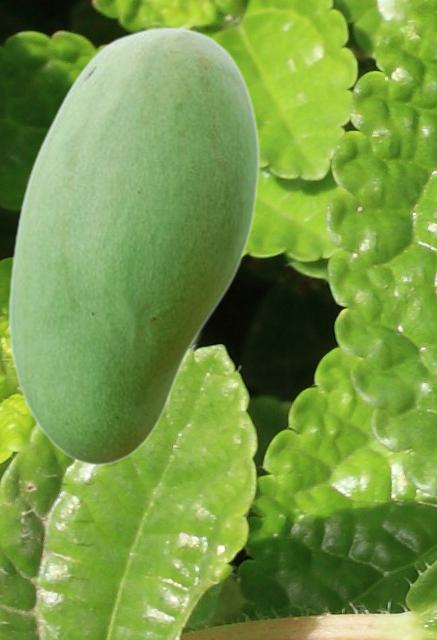green_mango: (7, 26, 258, 465)
